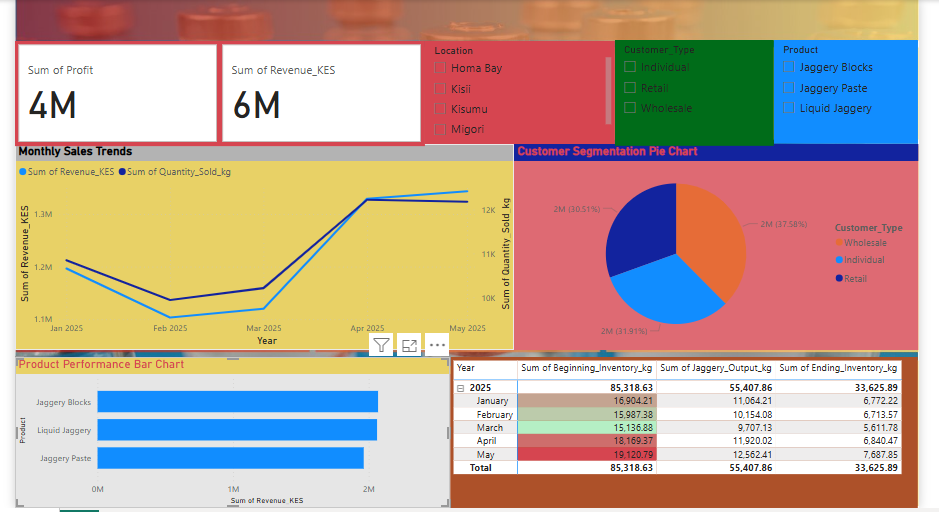

What the dashboard file says about the page in this screenshot:
{"tool":"powerbi","page":{"name":"Page 1","canvas":[1280,720],"ordinal":0},"visuals":[{"type":"lineChart","title":"Monthly Sales Trends","fields":{"Y":["Sum(sales_data.Revenue_KES)"],"Category":["sales_data.Date.Variation.Date Hierarchy.Year","sales_data.Date.Variation.Date Hierarchy.Quarter","sales_data.Date.Variation.Date Hierarchy.Month"],"Y2":["Sum(sales_data.Quantity_Sold_kg)"]},"box":[0,204.1,707.2,292],"z":0},{"type":"clusteredBarChart","title":" Product Performance Bar Chart","fields":{"Y":["Sum(sales_data.Revenue_KES)"],"Category":["sales_data.Product"]},"box":[0,506,616.5,214],"z":1},{"type":"pieChart","title":" Customer Segmentation Pie Chart","fields":{"Category":["sales_data.Customer_Type"],"Y":["Sum(sales_data.Revenue_KES)"]},"box":[707.2,204.1,572.6,292],"z":2},{"type":"pivotTable","fields":{"Rows":["sales_data.Date.Variation.Date Hierarchy.Year","sales_data.Date.Variation.Date Hierarchy.Month"],"Values":["Sum(sales_data.Beginning_Inventory_kg)","Sum(sales_data.Jaggery_Output_kg)","Sum(sales_data.Ending_Inventory_kg)"]},"box":[616.5,506,663.3,214],"z":3},{"type":"slicer","fields":{"Values":["sales_data.Product"]},"box":[1075.7,56.7,204.1,147.4],"z":4},{"type":"slicer","fields":{"Values":["sales_data.Customer_Type"]},"box":[850.4,56.7,225.4,150.2],"z":5},{"type":"cardVisual","fields":{"Data":["Sum(sales_data.Profit)","Sum(sales_data.Revenue_KES)"]},"box":[0,58.1,581.1,148.8],"z":6},{"type":"slicer","fields":{"Values":["sales_data.Location"]},"box":[581.1,58.1,269.3,146],"z":7}]}

Visuals, with their boxes in screenshot pixels (x1, y1, x2, y2):
"Monthly Sales Trends" lineChart: pyautogui.locateOnScreen(20, 143, 515, 347)
" Product Performance Bar Chart" clusteredBarChart: pyautogui.locateOnScreen(20, 354, 451, 504)
" Customer Segmentation Pie Chart" pieChart: pyautogui.locateOnScreen(515, 143, 915, 347)
pivotTable - sales_data.Date.Variation.Date Hierarchy.Year x sales_data.Date.Variation.Date Hierarchy.Month: pyautogui.locateOnScreen(451, 354, 915, 504)
slicer - sales_data.Product: pyautogui.locateOnScreen(773, 40, 915, 143)
slicer - sales_data.Customer_Type: pyautogui.locateOnScreen(615, 40, 773, 145)
cardVisual - Sum(sales_data.Profit) x Sum(sales_data.Revenue_KES): pyautogui.locateOnScreen(20, 41, 426, 145)
slicer - sales_data.Location: pyautogui.locateOnScreen(426, 41, 615, 143)
